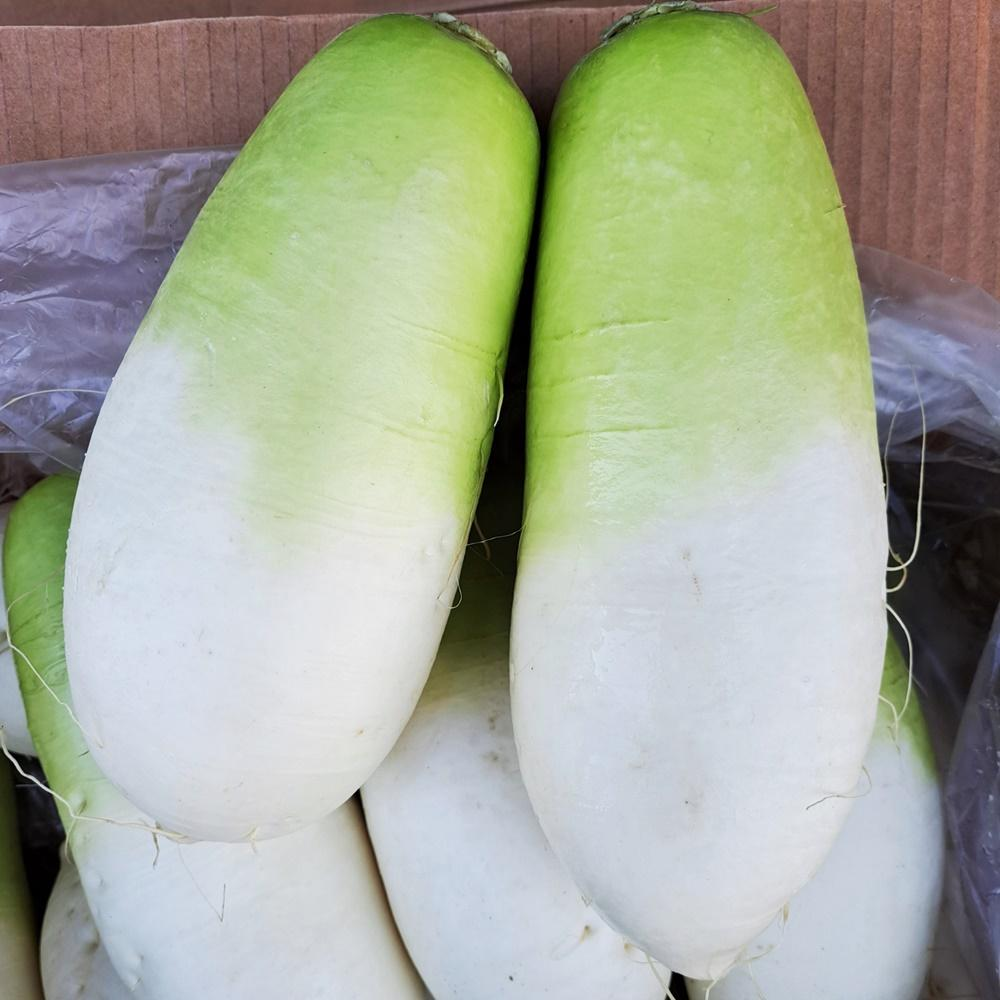radish: (416, 83, 809, 1000), (784, 289, 1000, 1000)
